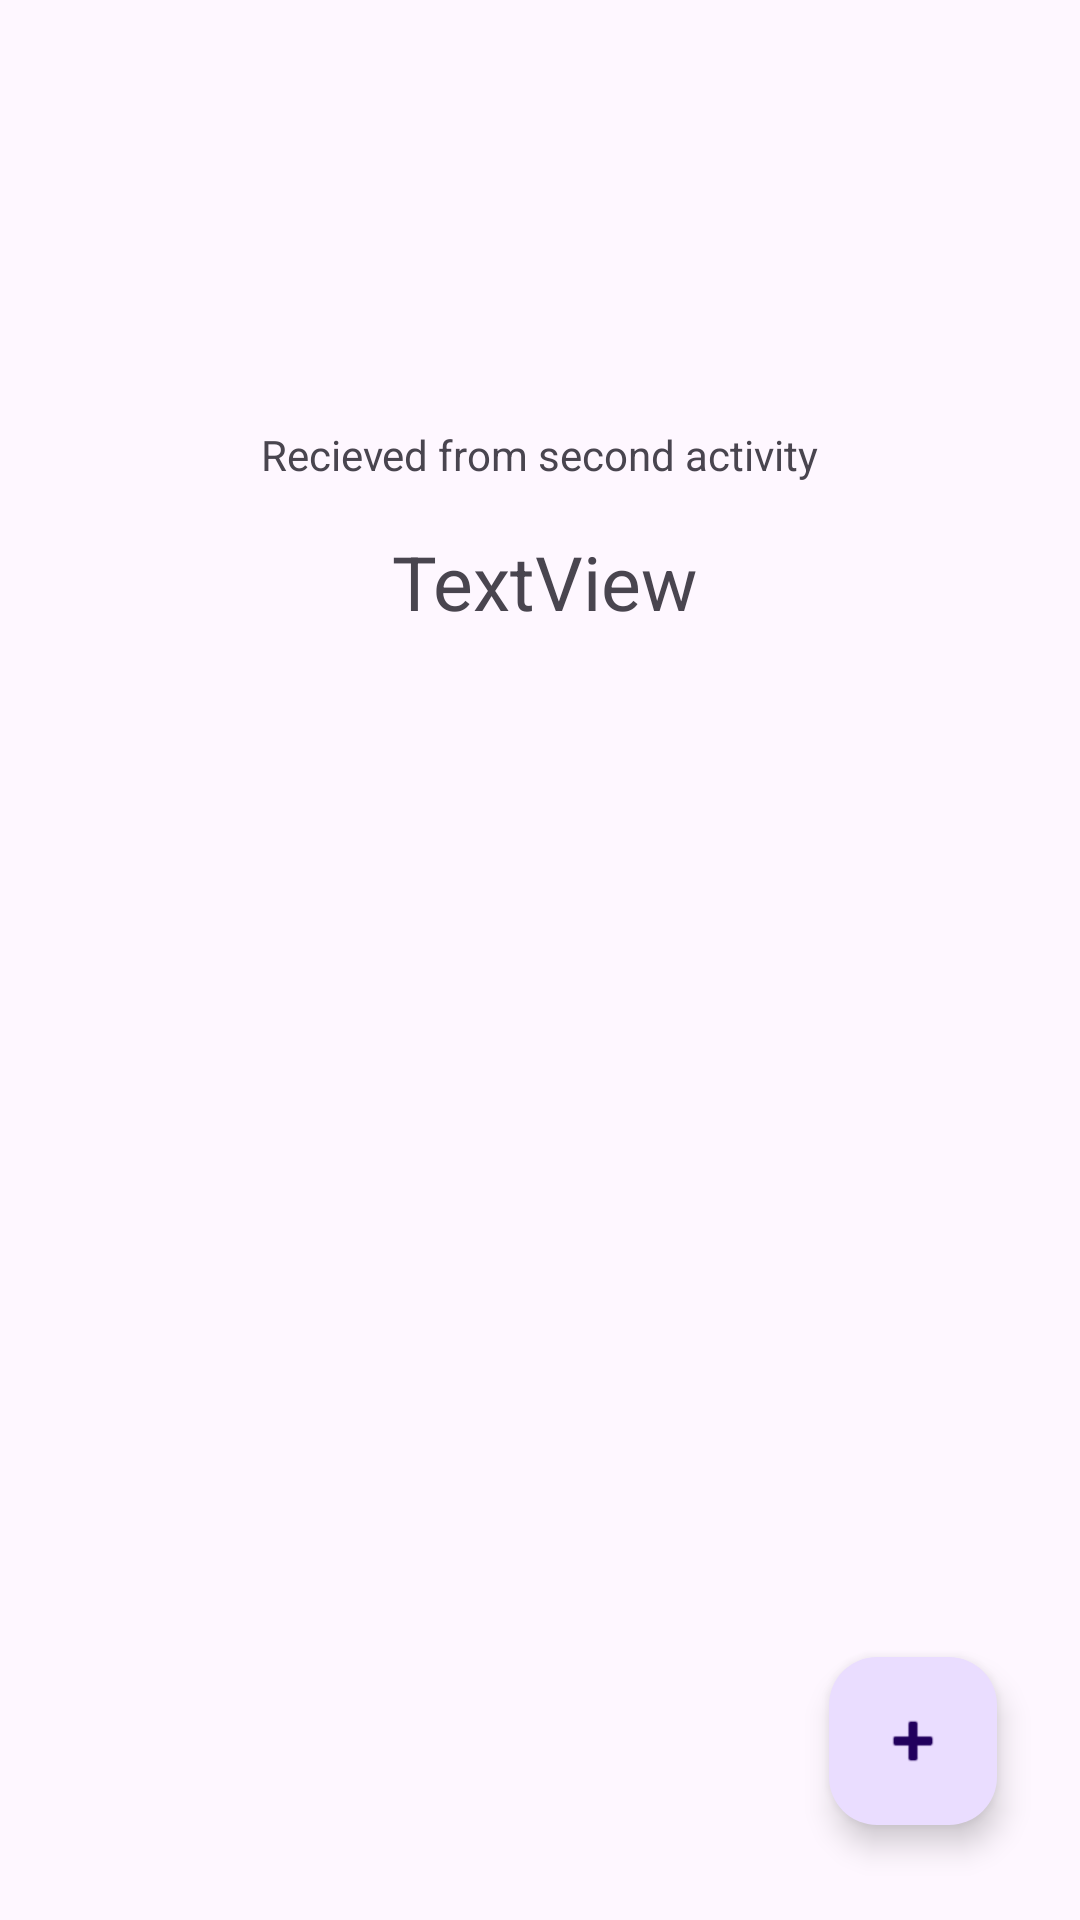

Named icons in this screenshot (1080w x 1920h) and their centers, (x=x, y=y):
add: (x=913, y=1741)
